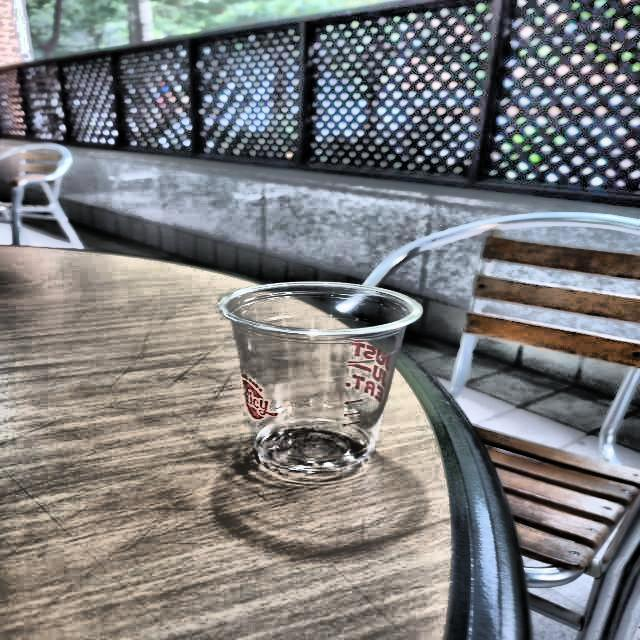plastic cup: (213, 272, 428, 486)
